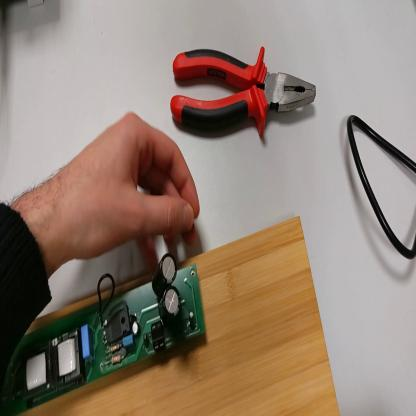hand: (58, 114, 201, 261)
high voltage board: (1, 256, 207, 416)
pliers: (169, 49, 318, 144)
working area: (23, 219, 341, 415)
